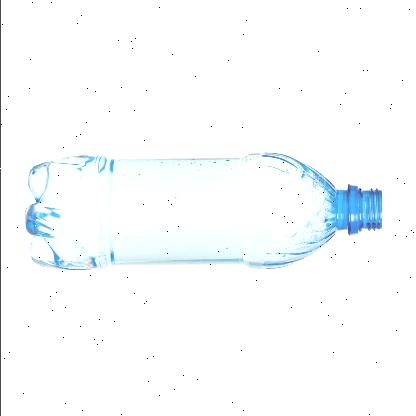Plastic Bottle: (23, 154, 381, 270)
